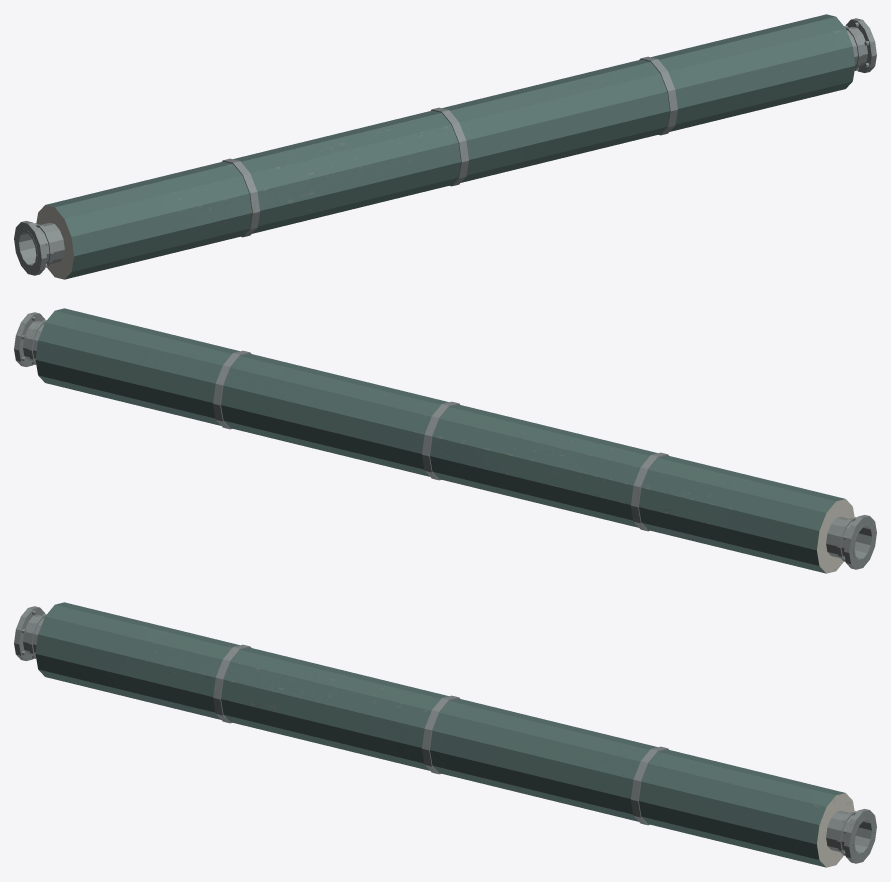
The model's file is district_heating_pipe_straight.glb.
The picture shows the model from 3 angles, top to bottom: view 1: azimuth 30°, elevation 25°; view 2: azimuth 150°, elevation 25°; view 3: azimuth 330°, elevation 25°; orthographic projection.
Parts seen in each view (by area): view 1: HeatingPipeStraight; view 2: HeatingPipeStraight; view 3: HeatingPipeStraight.
Part boxes in pixels (bbox=[...]): HeatingPipeStraight: bbox=[14, 14, 876, 279]; HeatingPipeStraight: bbox=[14, 308, 876, 573]; HeatingPipeStraight: bbox=[14, 602, 876, 867].
Size of what is drawn, in the model's own units: 4 by 0.33 by 0.33.
1 material, 1 textured.
